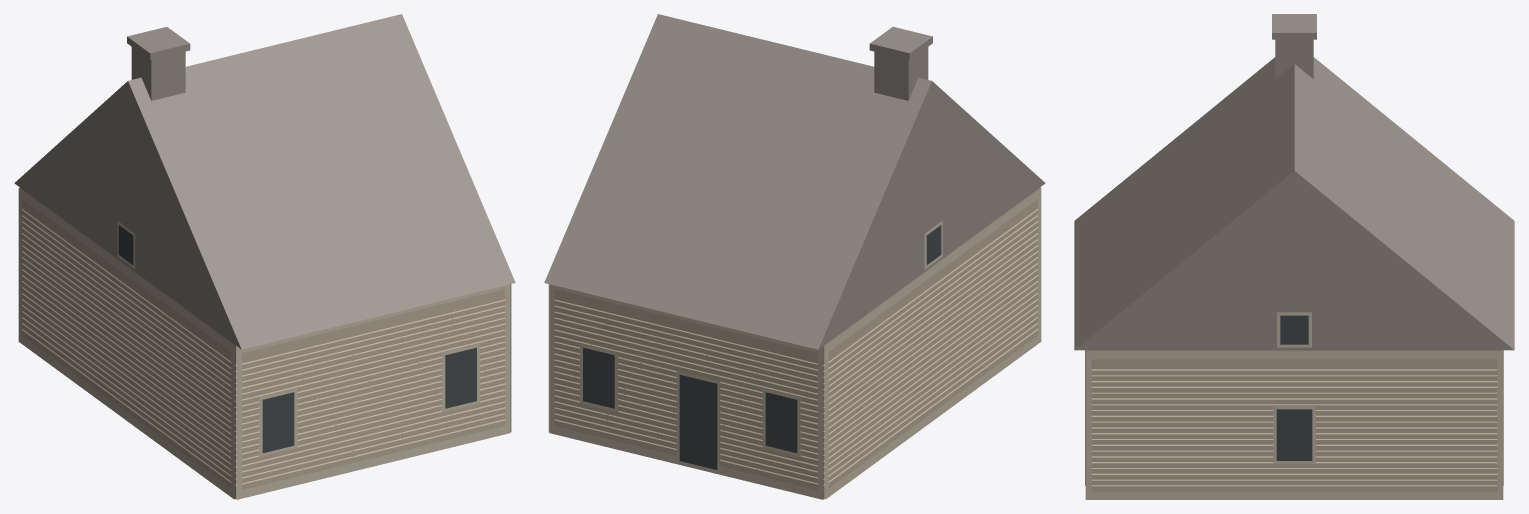
Rendered from recon_1835_north_d6_021__inferred_1835.glb.
3 renders of one model, left to right at view 1: azimuth 30°, elevation 25°; view 2: azimuth 150°, elevation 25°; view 3: azimuth 270°, elevation 25°, orthographic. The views are drawn at different scales.
Parts seen in each view (by area): view 1: recon_1835_north_d6_021__inferred_1835; view 2: recon_1835_north_d6_021__inferred_1835; view 3: recon_1835_north_d6_021__inferred_1835.
Boxes of the visible parts, box(x1,y1,x2,y2) form: recon_1835_north_d6_021__inferred_1835: box(14, 14, 515, 499); recon_1835_north_d6_021__inferred_1835: box(544, 14, 1045, 499); recon_1835_north_d6_021__inferred_1835: box(1074, 14, 1514, 499).
Size of the model in its own units: 6.8 by 8.72 by 9.64.
